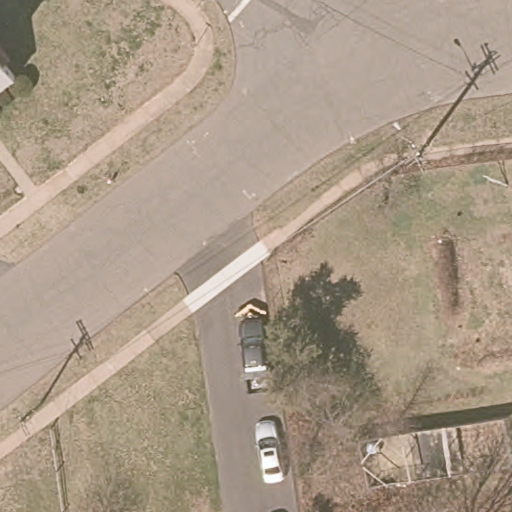DT: (401, 139, 431, 176), (13, 401, 41, 438)
